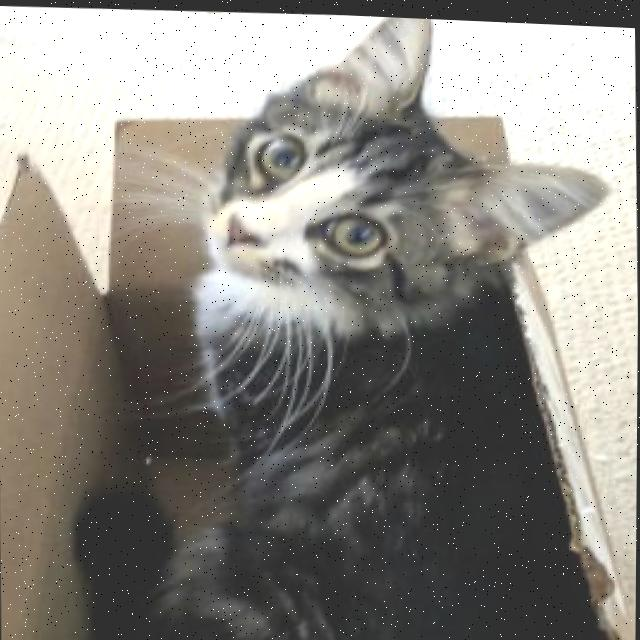Maine Coon: (125, 5, 624, 640)
